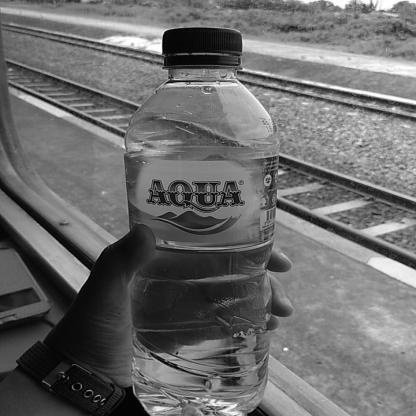plastic_bottles: (122, 29, 272, 416)
